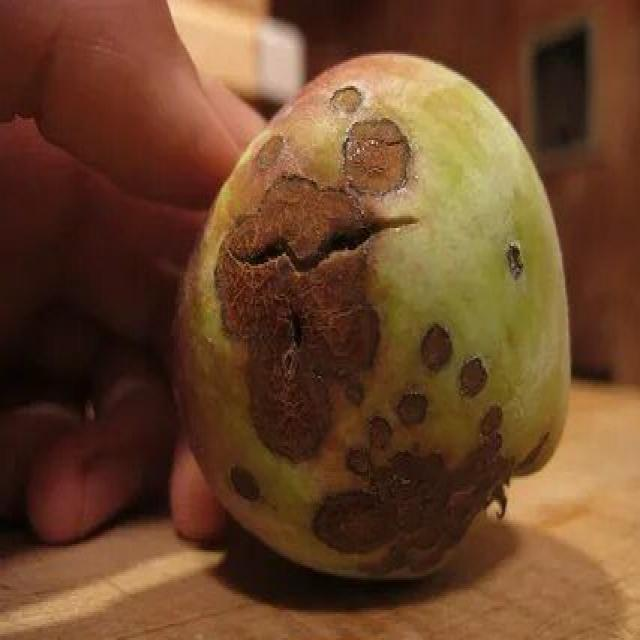Rotten: (163, 60, 590, 557)
